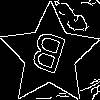B: (24, 30, 69, 84)
